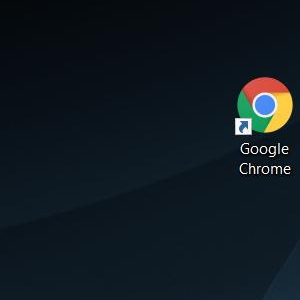chrome: (234, 76, 292, 135)
